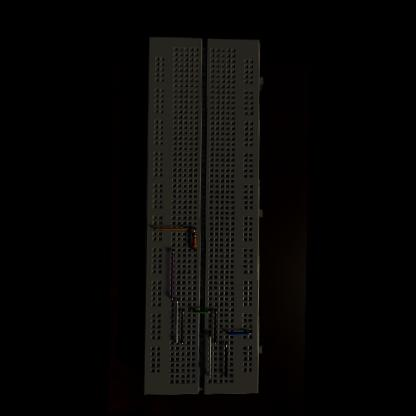breadboard: (141, 36, 266, 396)
resistor: (191, 232, 194, 247)
wire: (151, 226, 188, 230), (212, 308, 216, 344), (207, 330, 210, 378), (223, 342, 226, 378), (170, 249, 172, 300), (224, 330, 249, 334), (174, 297, 176, 344), (180, 309, 182, 344), (192, 308, 209, 312), (192, 228, 193, 232), (192, 247, 193, 250)
